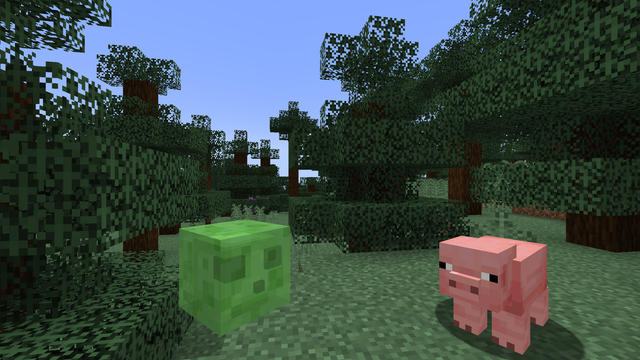cochons: (438, 234, 578, 355)
slimes: (178, 217, 276, 330)
